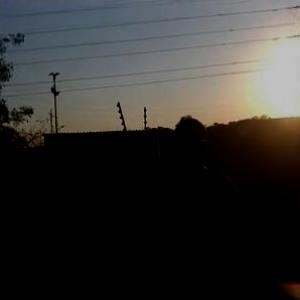follow: (149, 111, 250, 299)
